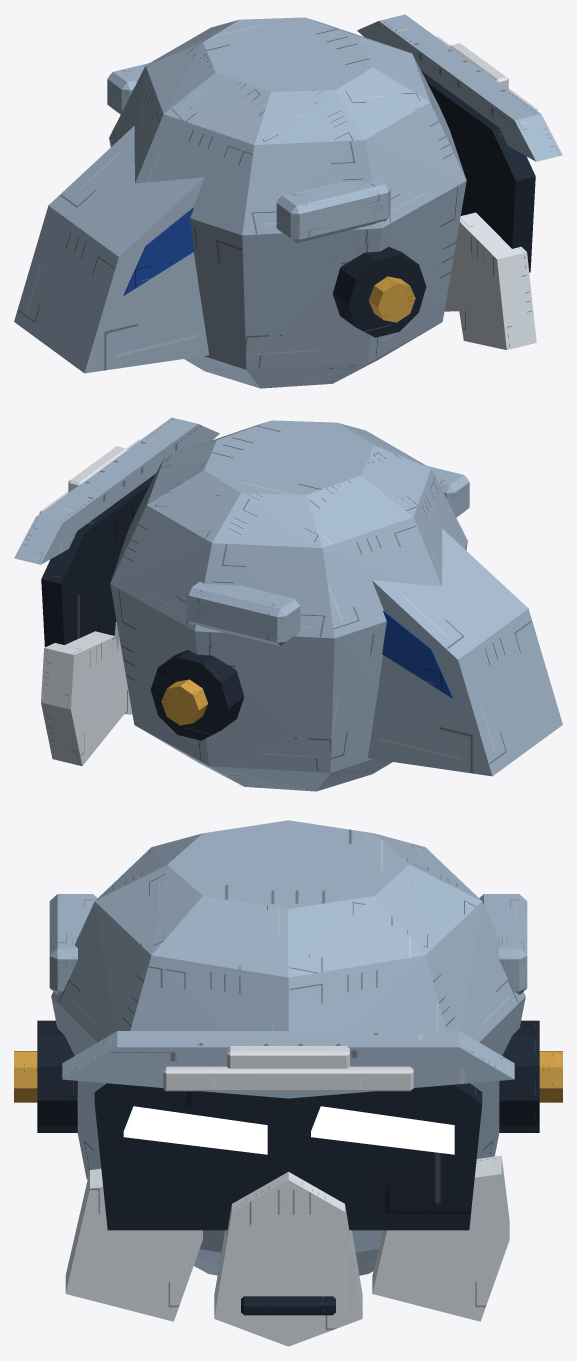
The model's file is sallet.glb.
3 views of the same model, one above another, from view 1: azimuth 30°, elevation 25°; view 2: azimuth 150°, elevation 25°; view 3: azimuth 270°, elevation 25° (orthographic). The views are drawn at different scales.
Parts seen in each view (by area): view 1: head; view 2: head; view 3: head.
Boxes of the visible parts, x1,y1,x2,y2 form: head: (14, 14, 562, 388); head: (14, 417, 562, 791); head: (14, 820, 562, 1346).
Size of the model in its own units: 0.396 by 0.255 by 0.34.
Materials: 7 (7 with a texture image).
